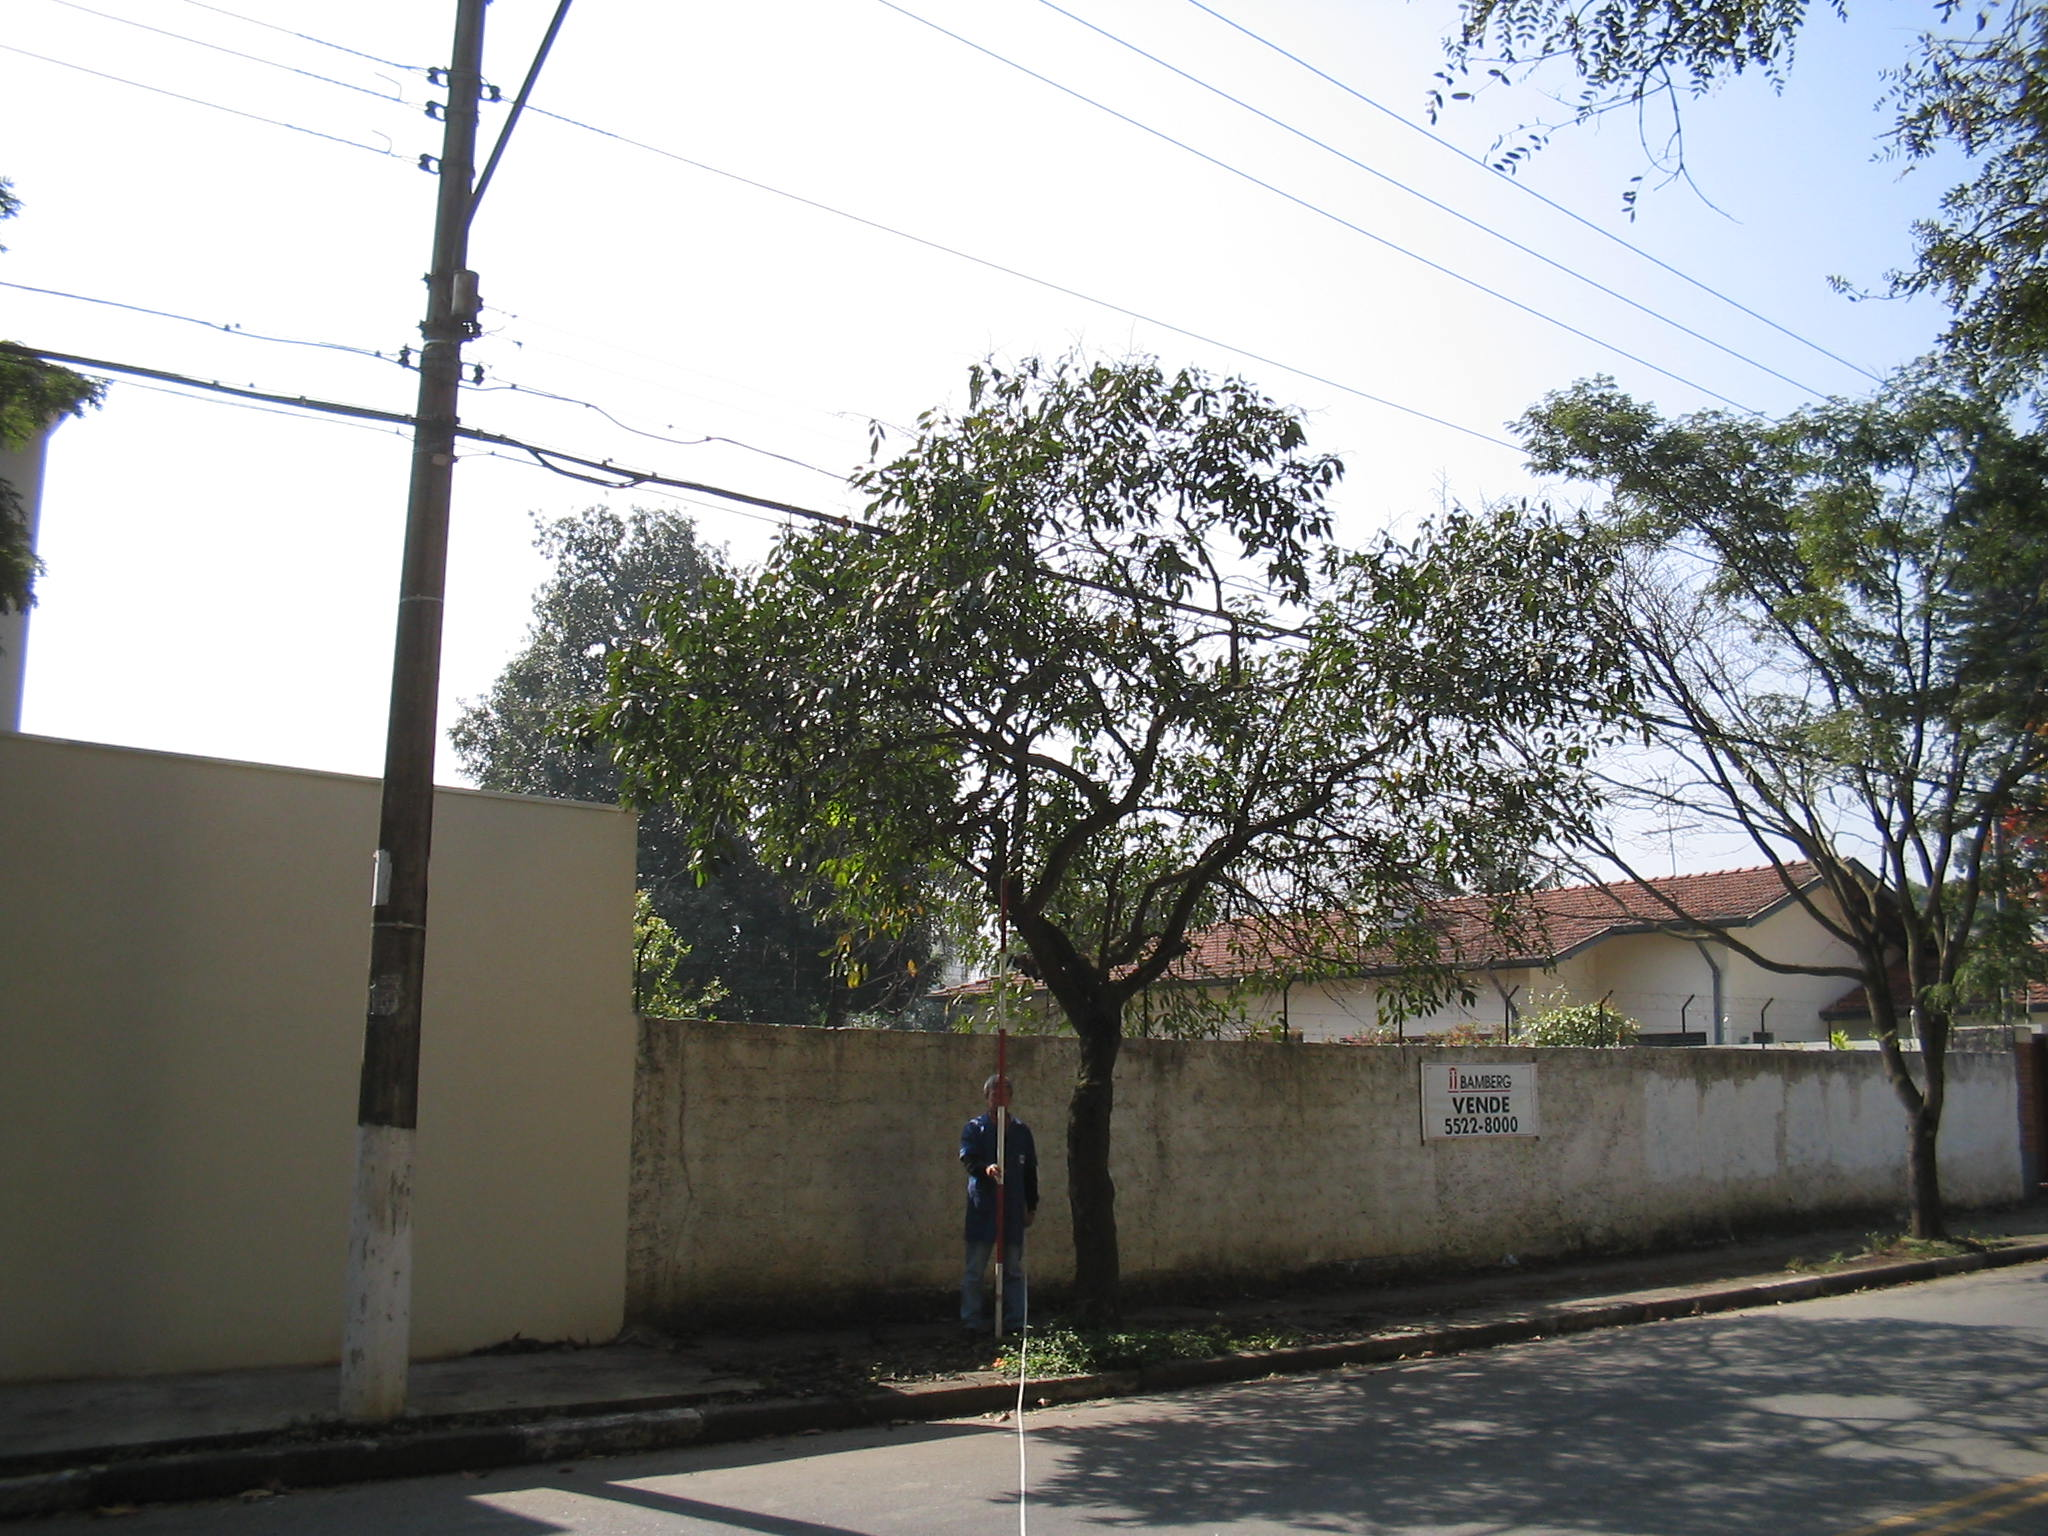crown: (560, 345, 1658, 1013)
stem: (1039, 1025, 1182, 1329), (1866, 1099, 1980, 1234)
stick: (971, 870, 1022, 1338)
tree: (556, 345, 1664, 1336), (1517, 357, 2048, 1239)
